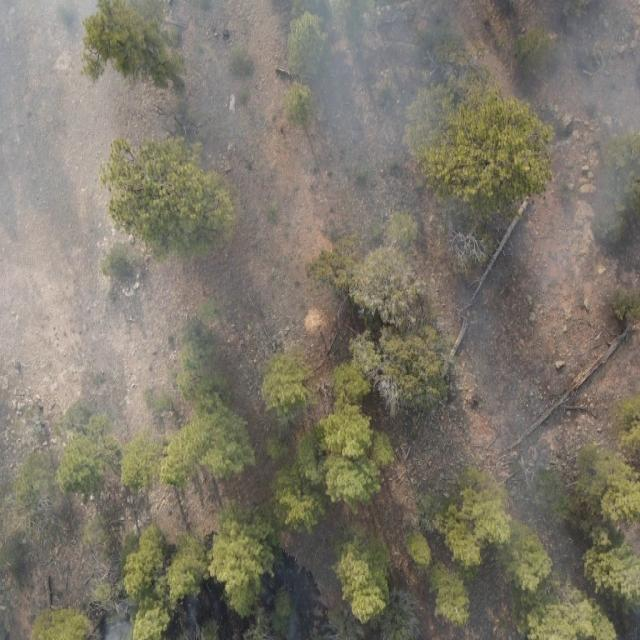smoke: (0, 0, 640, 424), (286, 585, 334, 640), (93, 589, 135, 640), (179, 595, 215, 640)
